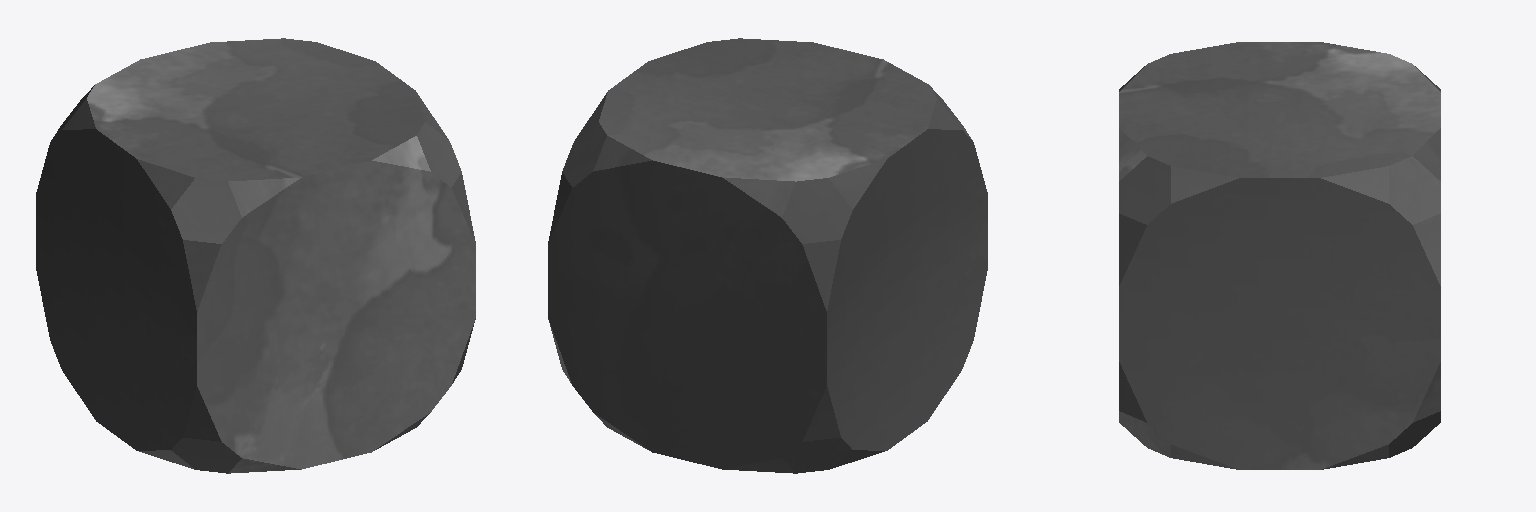
3 views of the same model, side by side, from view 1: azimuth 30°, elevation 25°; view 2: azimuth 150°, elevation 25°; view 3: azimuth 270°, elevation 25° (orthographic).
Parts seen in each view (by area): view 1: Cube; view 2: Cube; view 3: Cube.
Part boxes in pixels (x1,y1,x2,y2): Cube: (36,38,475,473); Cube: (548,38,987,473); Cube: (1119,42,1440,469).
Bounding box in the file's own units: 2 × 2 × 2.
Materials: 1 (1 with a texture image).